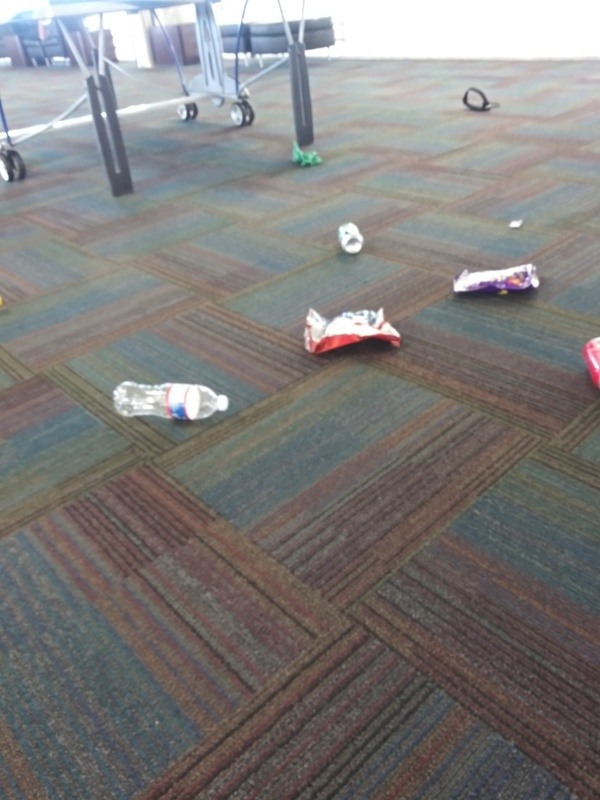bag: (300, 304, 405, 368), (446, 261, 544, 300)
bottle: (110, 378, 232, 427)
can: (577, 330, 600, 395), (334, 218, 365, 257)
